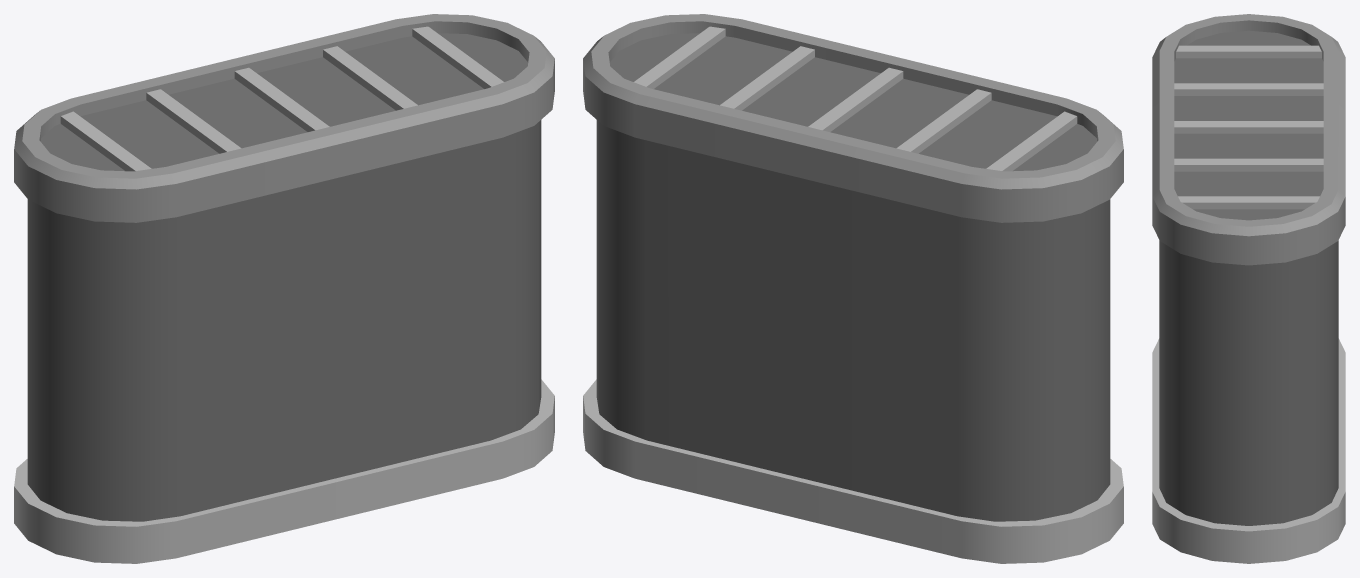
Rendered from space_station_019.fbx.
3 views of the same model, side by side, from view 1: azimuth 30°, elevation 25°; view 2: azimuth 150°, elevation 25°; view 3: azimuth 270°, elevation 25° (orthographic). The views are drawn at different scales.
Parts seen in each view (by area): view 1: space_station_019; view 2: space_station_019; view 3: space_station_019.
Boxes of the visible parts, x1=… form: space_station_019: x1=14, y1=14, x2=554, y2=563; space_station_019: x1=583, y1=14, x2=1123, y2=563; space_station_019: x1=1152, y1=14, x2=1345, y2=563.
Size of the model in its own units: 1742 by 649 by 1240.
